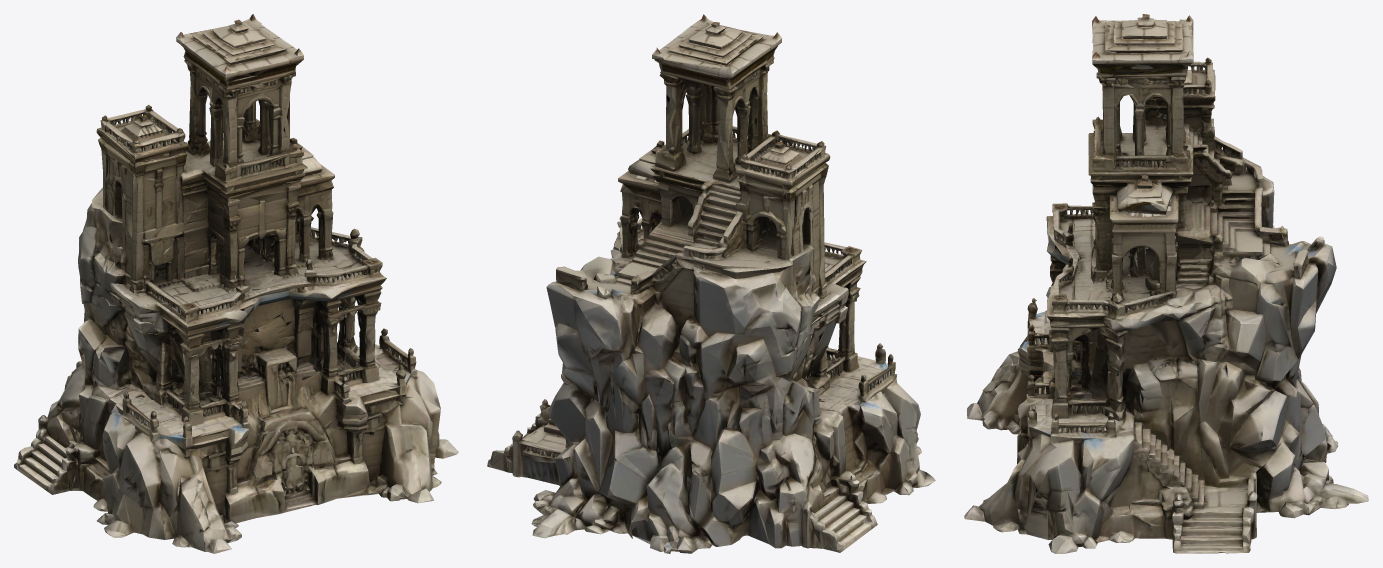
The model's file is cliff_sanctuary.glb.
3 renders of one model, left to right at view 1: azimuth 30°, elevation 25°; view 2: azimuth 150°, elevation 25°; view 3: azimuth 270°, elevation 25°, orthographic. The views are drawn at different scales.
Parts seen in each view (by area): view 1: output_unwrapped; view 2: output_unwrapped; view 3: output_unwrapped.
Part boxes in pixels (bbox=[...]): output_unwrapped: bbox=[14, 14, 458, 553]; output_unwrapped: bbox=[487, 14, 935, 553]; output_unwrapped: bbox=[964, 14, 1368, 553].
Bounding box in the file's own units: 1.58 × 1.9 × 1.54.
Materials: 1 (1 with a texture image).
